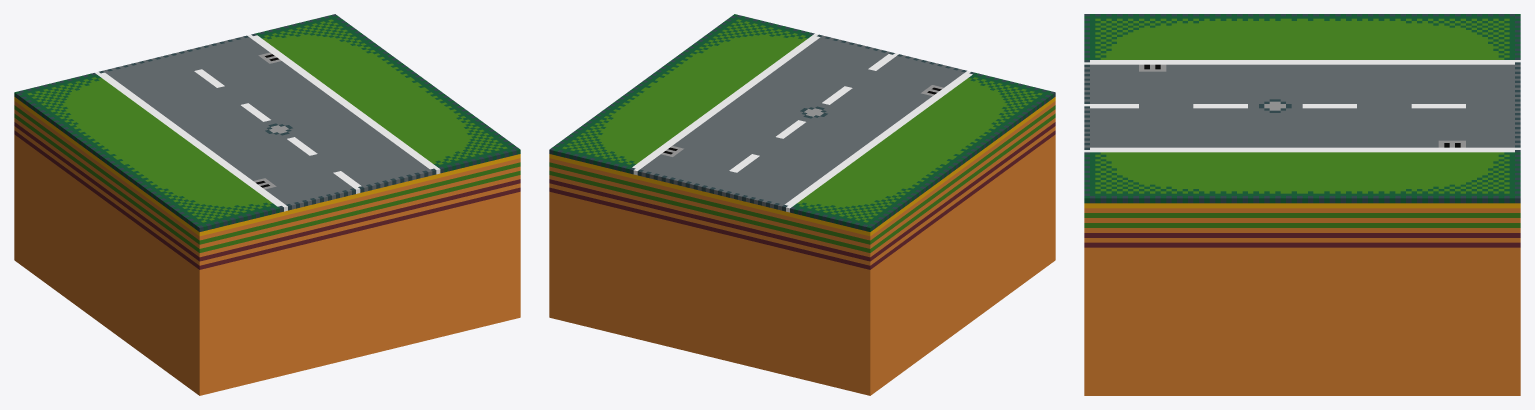
Rendered from road_1_tile.obj.
3 renders of one model, left to right at view 1: azimuth 30°, elevation 25°; view 2: azimuth 150°, elevation 25°; view 3: azimuth 270°, elevation 25°, orthographic. The views are drawn at different scales.
Size of the model in its own units: 8 by 4 by 8.
Materials: 1 (1 with a texture image).
